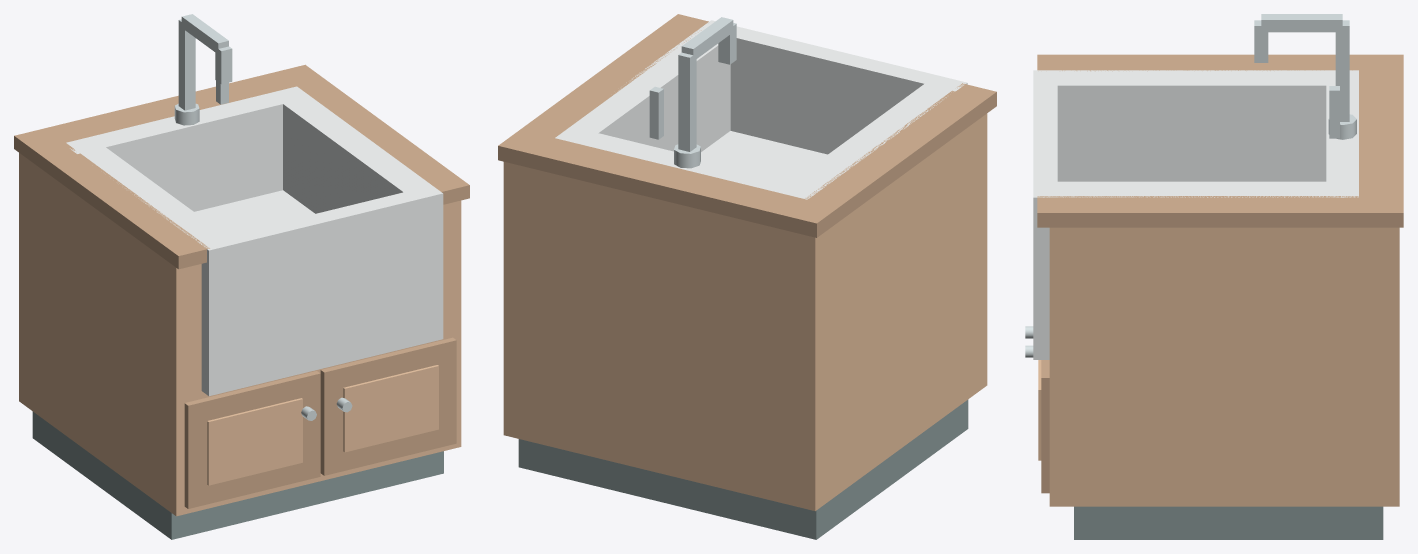
Rendered from sinkFarmhouse.glb.
The picture shows the model from 3 angles, left to right: view 1: azimuth 30°, elevation 25°; view 2: azimuth 150°, elevation 25°; view 3: azimuth 270°, elevation 25°; orthographic projection. The views are drawn at different scales.
Visible parts, largest first — view 1: sinkFarmhouse; view 2: sinkFarmhouse; view 3: sinkFarmhouse.
Part boxes in pixels (<box>): sinkFarmhouse: <box>14,14,469,539</box>; sinkFarmhouse: <box>498,14,996,539</box>; sinkFarmhouse: <box>1025,14,1403,539</box>.
Size of the model in its own units: 0.46 by 0.6085 by 0.465.
